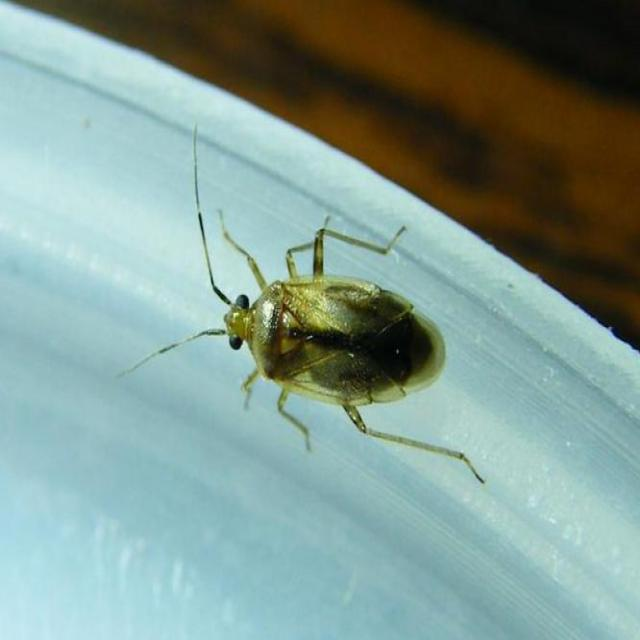Miridae-Adult-: (87, 112, 502, 490)
